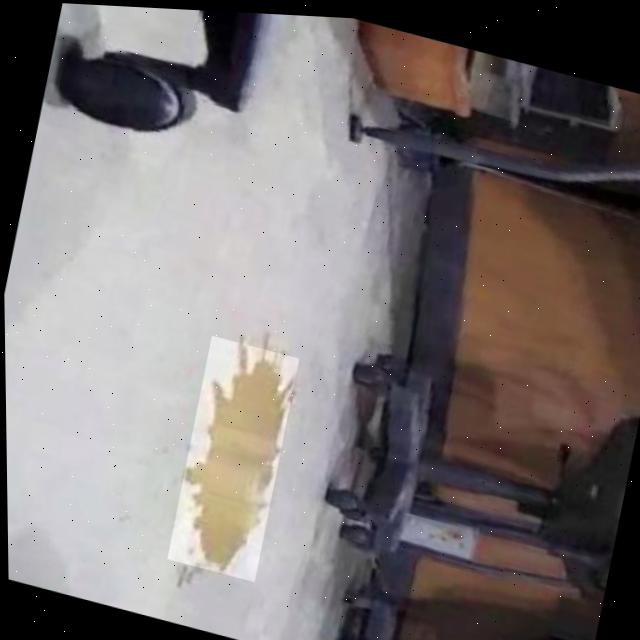spillage: (181, 345, 290, 569)
